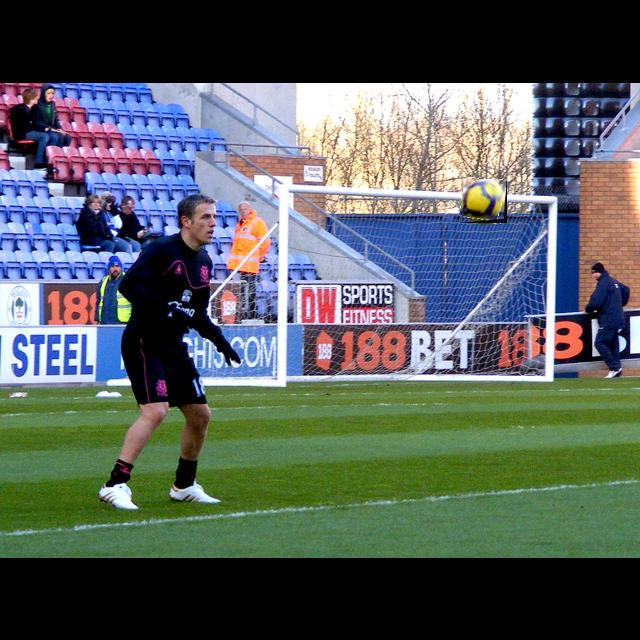Football: (461, 179, 507, 223)
